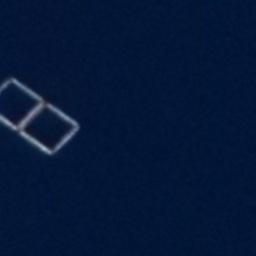square_solid: (15, 97, 85, 160), (1, 70, 48, 138)
